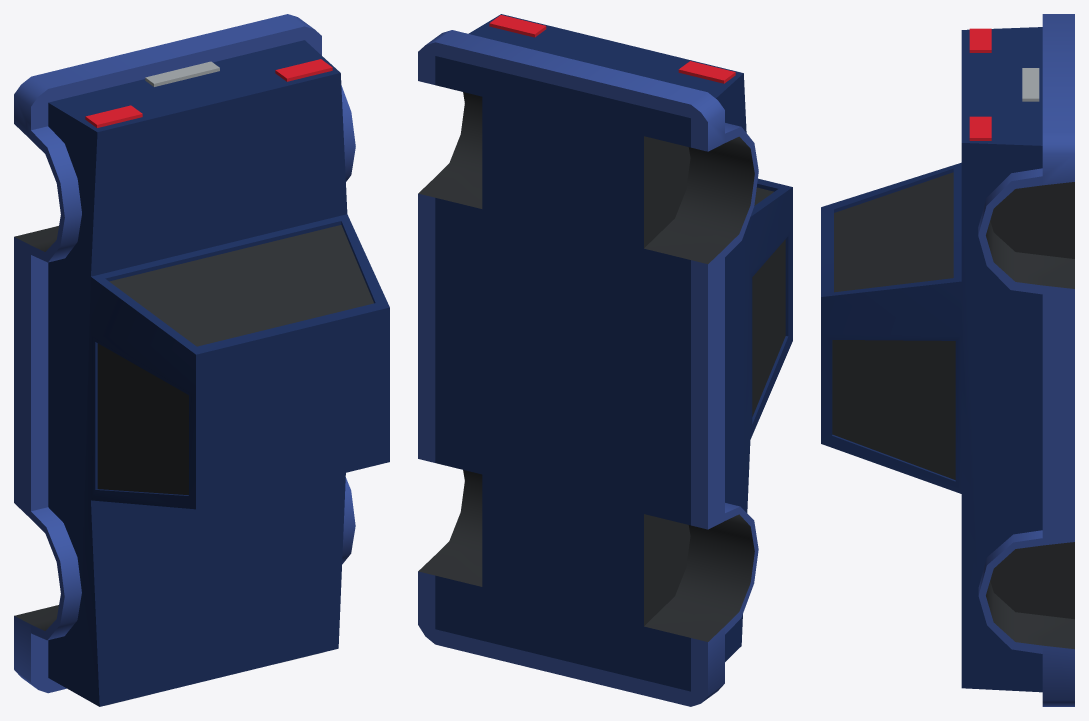
The model's file is Race Royale.fbx.
The picture shows the model from 3 angles, left to right: view 1: azimuth 30°, elevation 25°; view 2: azimuth 150°, elevation 25°; view 3: azimuth 270°, elevation 25°; orthographic projection. The views are drawn at different scales.
Visible parts, largest first — view 1: Car1; view 2: Car1; view 3: Car1.
Part boxes in pixels (<box>): Car1: <box>14,14,389,706</box>; Car1: <box>418,14,792,706</box>; Car1: <box>821,14,1074,706</box>.
Size of the model in its own units: 271 by 538 by 216.
